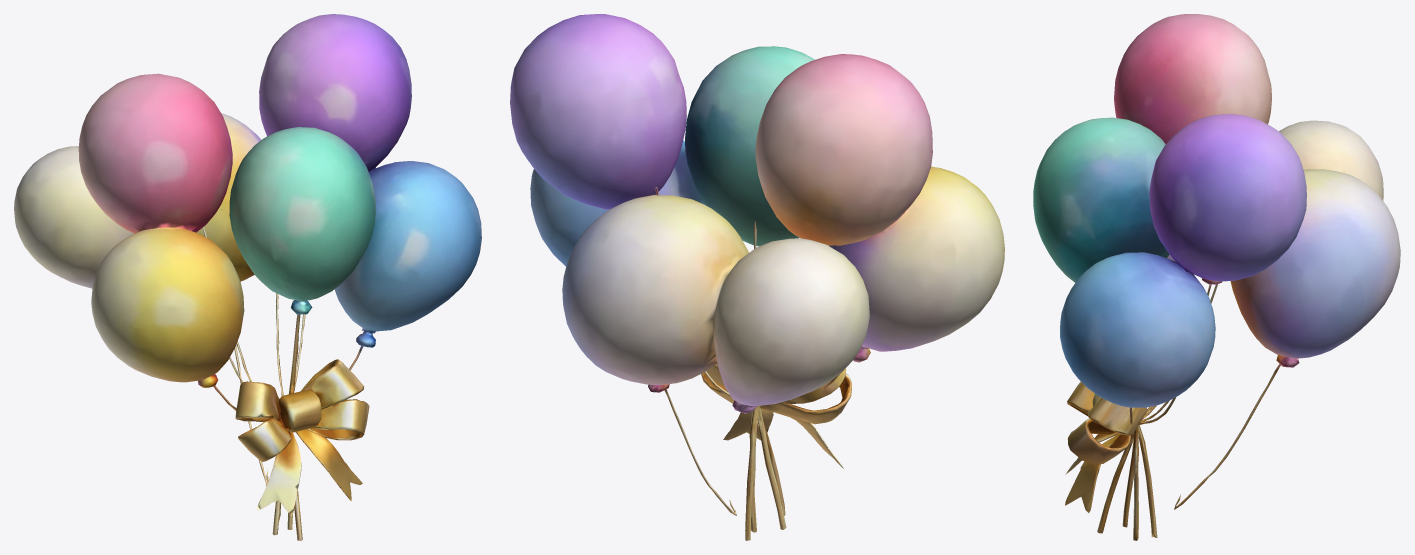
File: balloon-bunch.glb
The picture shows the model from 3 angles, left to right: view 1: azimuth 30°, elevation 25°; view 2: azimuth 150°, elevation 25°; view 3: azimuth 270°, elevation 25°; orthographic projection. The views are drawn at different scales.
Parts seen in each view (by area): view 1: tripo_node_6d5ab32c-2ff5-4bcd-8ef0-9b338a5f6650; view 2: tripo_node_6d5ab32c-2ff5-4bcd-8ef0-9b338a5f6650; view 3: tripo_node_6d5ab32c-2ff5-4bcd-8ef0-9b338a5f6650.
Part boxes in pixels (<box>): tripo_node_6d5ab32c-2ff5-4bcd-8ef0-9b338a5f6650: <box>14,14,481,540</box>; tripo_node_6d5ab32c-2ff5-4bcd-8ef0-9b338a5f6650: <box>510,14,1004,540</box>; tripo_node_6d5ab32c-2ff5-4bcd-8ef0-9b338a5f6650: <box>1033,14,1400,540</box>.
Bounding box in the file's own units: 0.8815 × 1 × 0.7164.
Materials: 1 (1 with a texture image).
